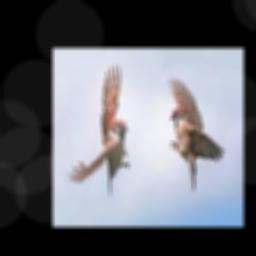Sparrow: (66, 64, 130, 196), (168, 78, 225, 193)
